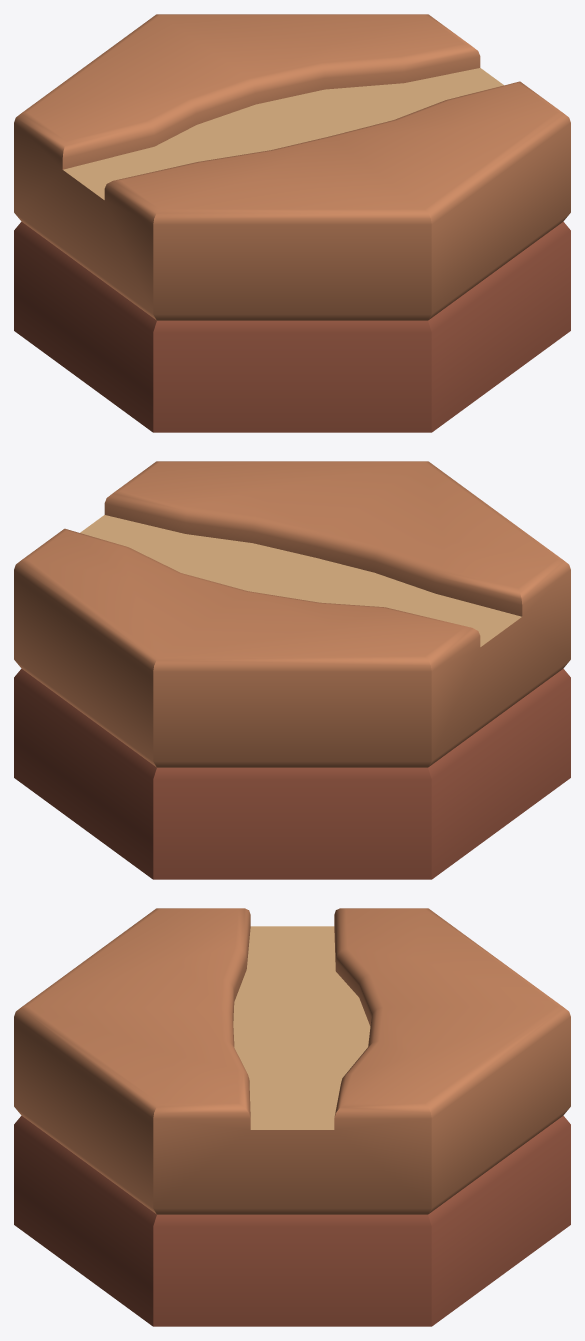
Rendered from hex_rock_roadB_detail.glb.
The picture shows the model from 3 angles, top to bottom: view 1: azimuth 30°, elevation 25°; view 2: azimuth 150°, elevation 25°; view 3: azimuth 270°, elevation 25°; orthographic projection.
Visible parts, largest first — view 1: hex_rock_roadB_detail; view 2: hex_rock_roadB_detail; view 3: hex_rock_roadB_detail.
Part boxes in pixels (<box>): hex_rock_roadB_detail: <box>14,14,570,432</box>; hex_rock_roadB_detail: <box>14,461,570,879</box>; hex_rock_roadB_detail: <box>14,908,570,1326</box>.
Size of the model in its own units: 2.4 by 1.2 by 2.77.
